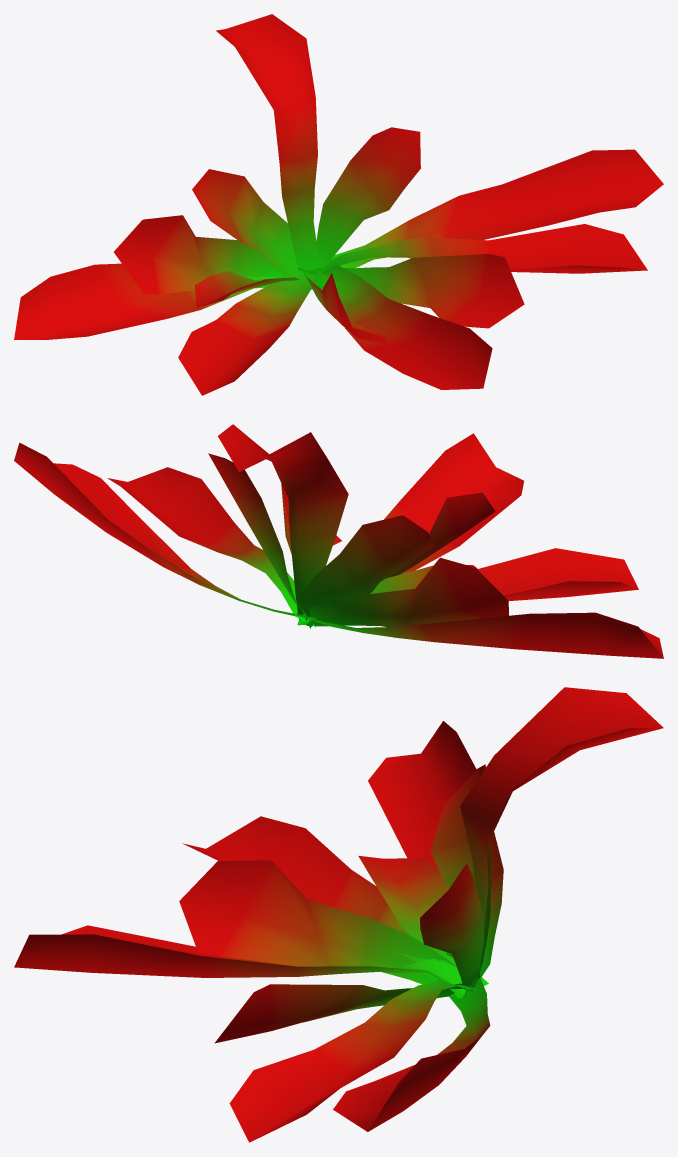
The model's file is Var6_LOD0.fbx.
3 views of the same model, one above another, from view 1: azimuth 30°, elevation 25°; view 2: azimuth 150°, elevation 25°; view 3: azimuth 270°, elevation 25° (orthographic). The views are drawn at different scales.
Parts seen in each view (by area): view 1: _hsel_Var6_LOD0; view 2: _hsel_Var6_LOD0; view 3: _hsel_Var6_LOD0.
Boxes of the visible parts, x1,y1,x2,y2 form: _hsel_Var6_LOD0: [14, 14, 663, 395]; _hsel_Var6_LOD0: [14, 424, 663, 658]; _hsel_Var6_LOD0: [14, 687, 663, 1142].
Size of the model in its own units: 39.45 by 13.27 by 27.04.
